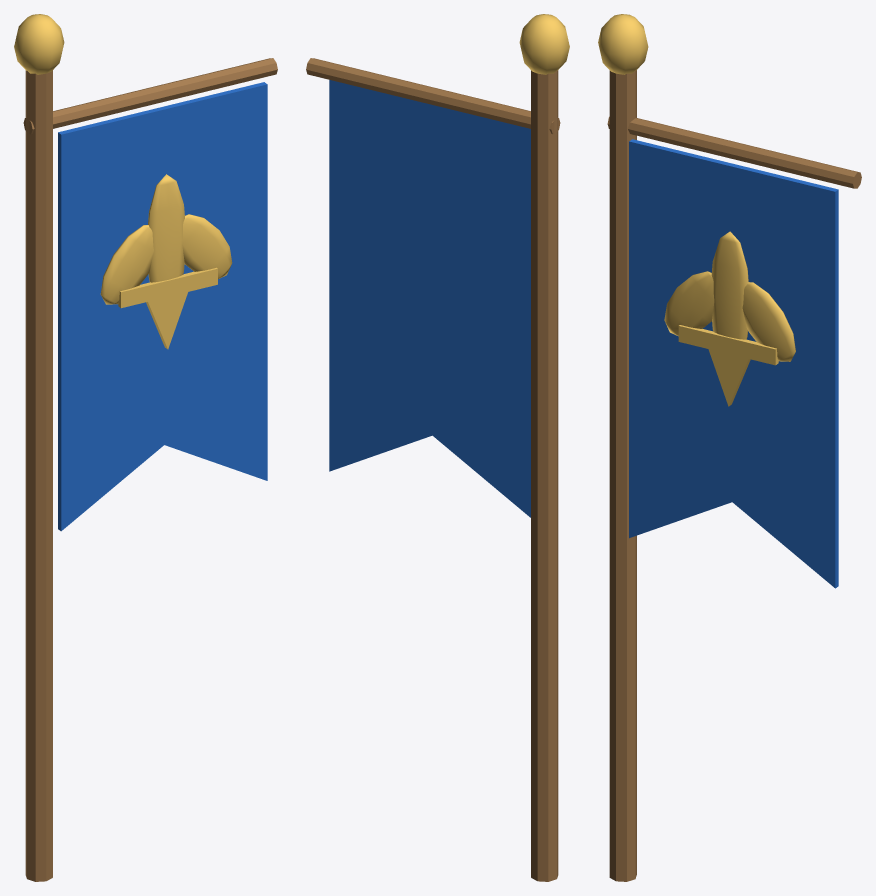
The model's file is prop_banner_blue.glb.
The picture shows the model from 3 angles, left to right: view 1: azimuth 30°, elevation 25°; view 2: azimuth 150°, elevation 25°; view 3: azimuth 330°, elevation 25°; orthographic projection.
Parts seen in each view (by area): view 1: prop_banner_blue; view 2: prop_banner_blue; view 3: prop_banner_blue.
Part boxes in pixels (<box>): prop_banner_blue: <box>14,14,277,881</box>; prop_banner_blue: <box>306,14,569,881</box>; prop_banner_blue: <box>598,14,861,881</box>.
Bounding box in the file's own units: 0.9161 × 2.95 × 0.162.
